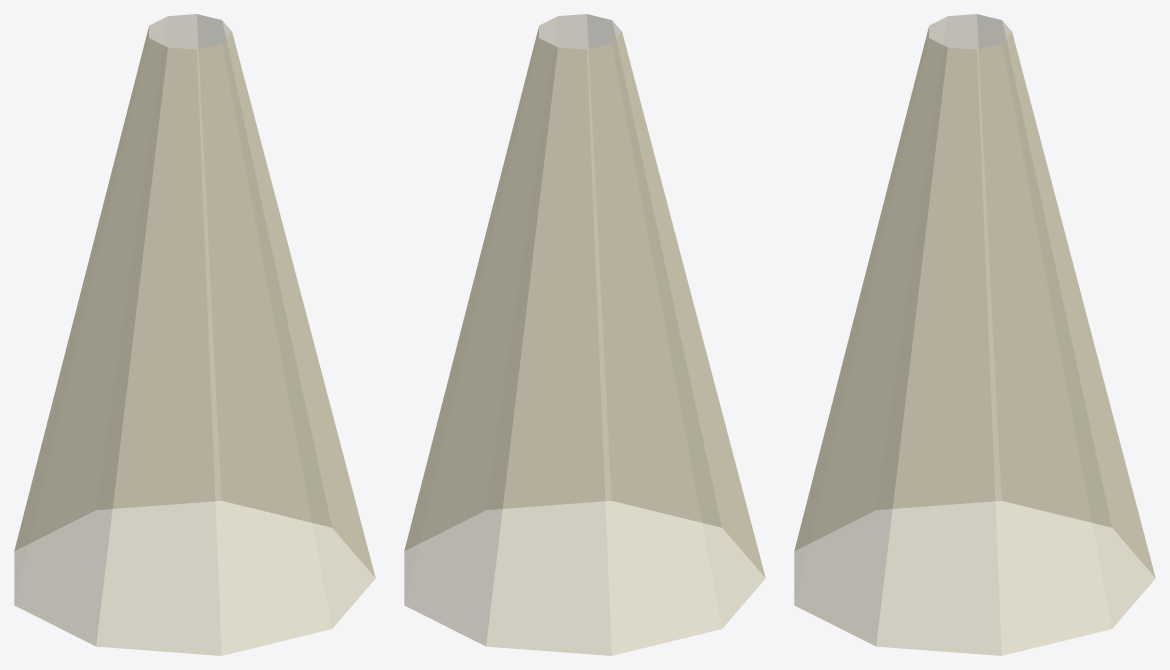
Rendered from beam.fbx.
The picture shows the model from 3 angles, left to right: view 1: azimuth 30°, elevation 25°; view 2: azimuth 150°, elevation 25°; view 3: azimuth 270°, elevation 25°; orthographic projection.
Visible parts, largest first — view 1: Cone; view 2: Cone; view 3: Cone.
Part boxes in pixels (x1,y1,x2,y2): Cone: [14, 14, 375, 655]; Cone: [404, 14, 765, 655]; Cone: [794, 14, 1155, 655].
Size of the model in its own units: 400 by 657 by 394.
